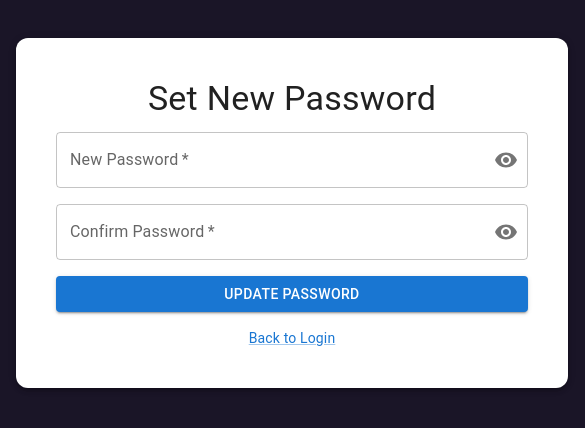
Test case: ResetPasswordPage › form validation › shows an error when the password is shorter than 8 characters
Type "short" into the password field labelled "New Password *" at coordinates (267, 160), box [56, 132, 478, 188]
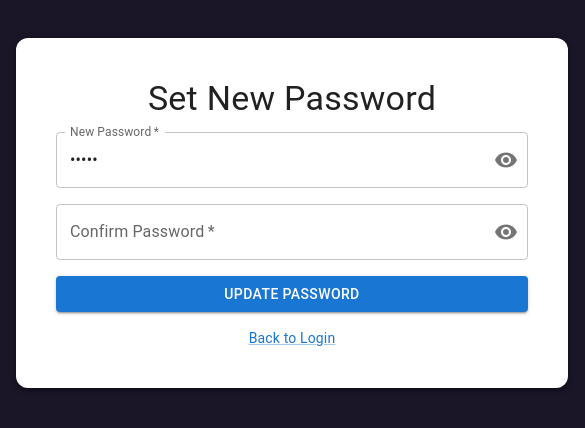
Type "short" into the password field labelled "Confirm Password *" at coordinates (267, 232), box [56, 204, 478, 260]
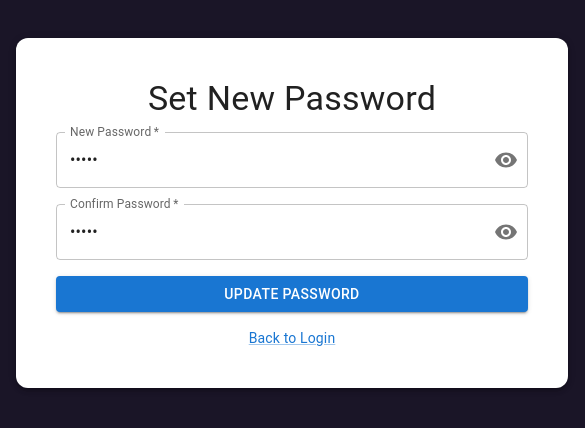
Click the button "Update Password" at coordinates (292, 294), box [56, 276, 528, 312]
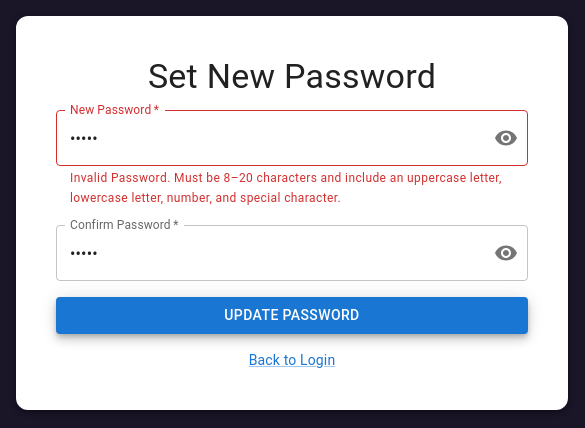
Expected: the text "Invalid Password" is shown, [70, 171, 502, 205]
